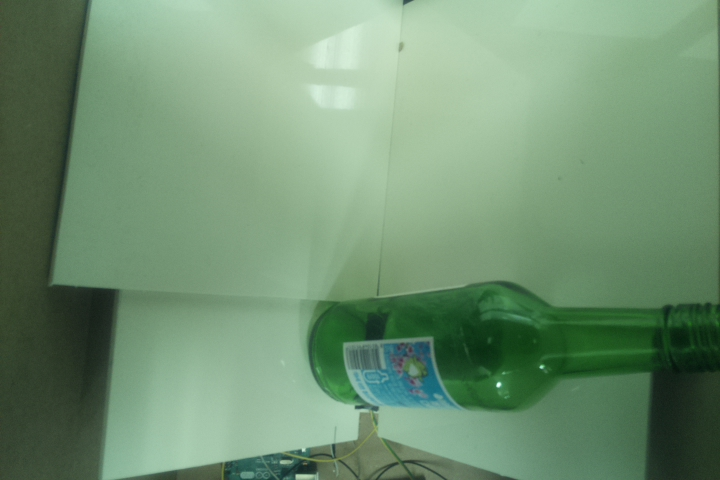soju: (307, 279, 720, 414)
